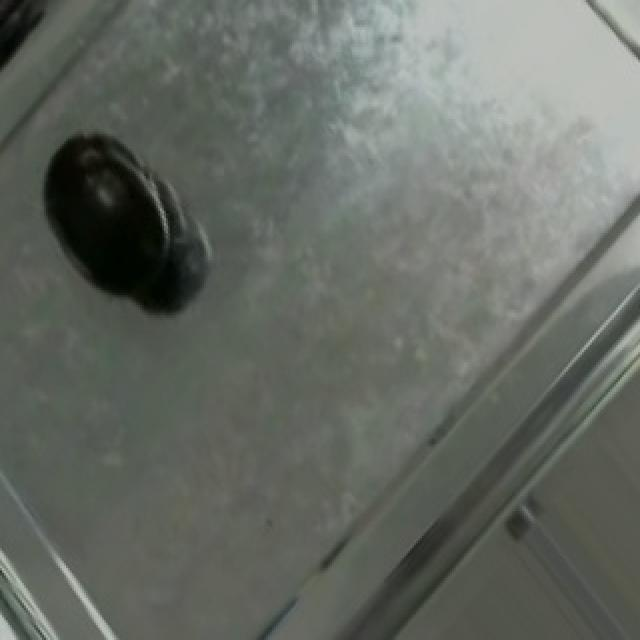Fruit: (20, 116, 190, 322), (0, 0, 56, 89)
